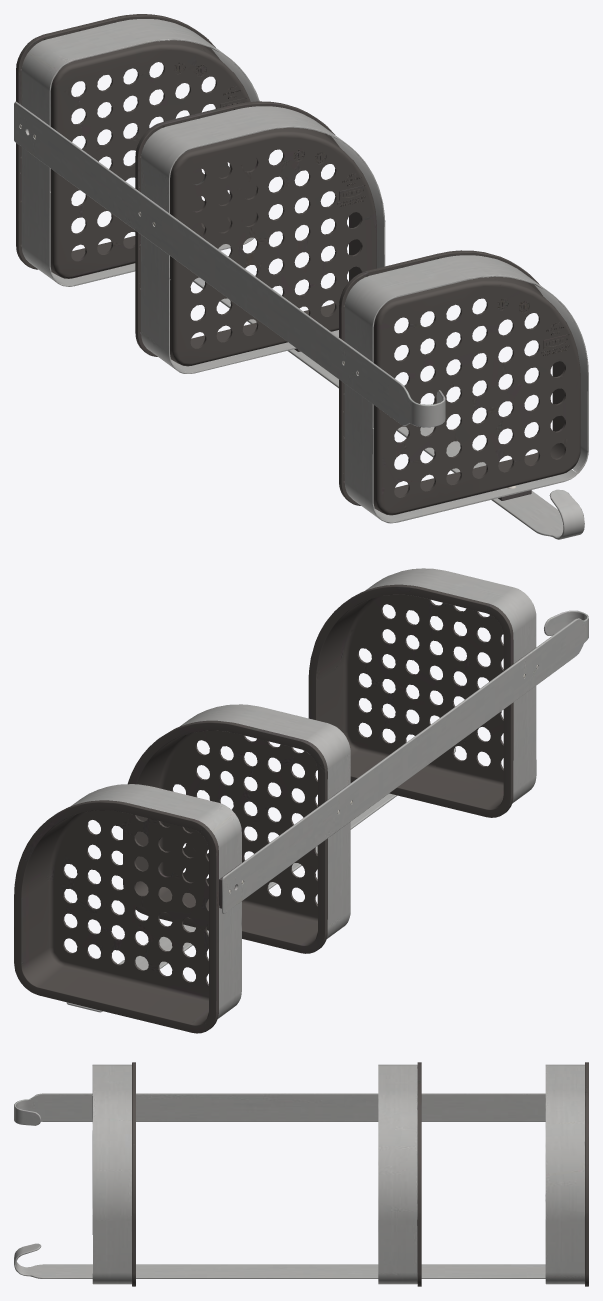
3 views of the same model, one above another, from view 1: azimuth 30°, elevation 25°; view 2: azimuth 150°, elevation 25°; view 3: azimuth 270°, elevation 25° (orthographic). The views are drawn at different scales.
Visible parts, largest first — view 1: 30408979-BROGRUND001; view 2: 30408979-BROGRUND001; view 3: 30408979-BROGRUND001.
Boxes of the visible parts, left/top/right/bottom form: 30408979-BROGRUND001: left=14, top=14, right=588, bottom=539; 30408979-BROGRUND001: left=14, top=568, right=588, bottom=1033; 30408979-BROGRUND001: left=14, top=1062, right=588, bottom=1286.
Bounding box in the file's own units: 0.1871 × 0.1871 × 0.584.
Materials: 1 (1 with a texture image).
